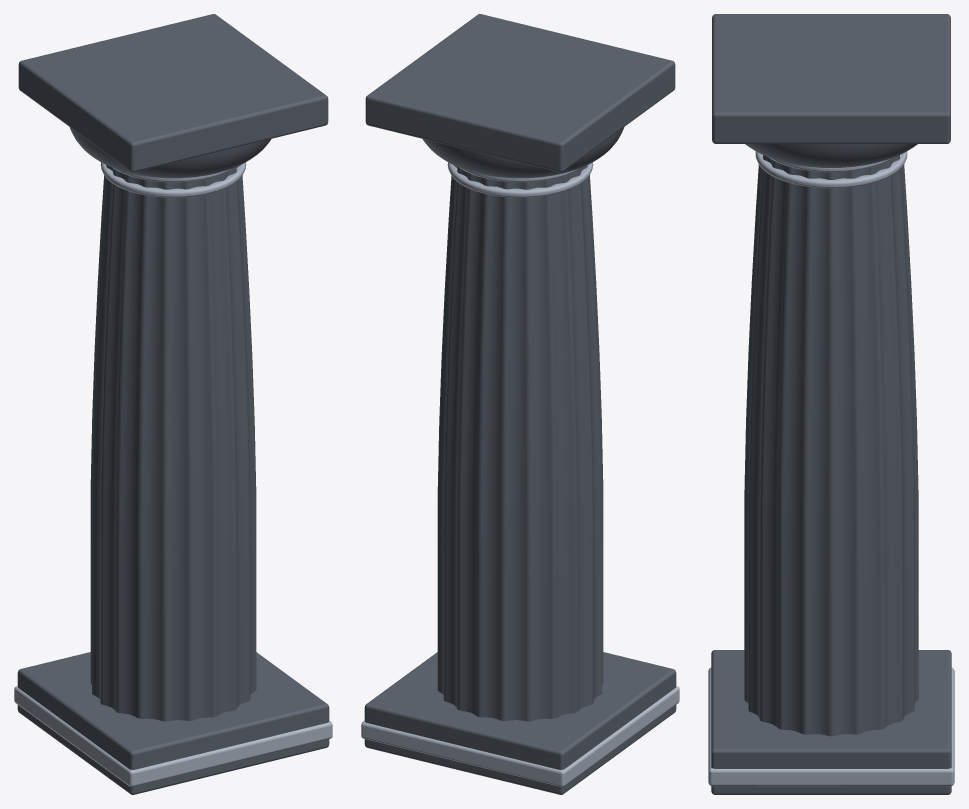
Rendered from column-doric.glb.
3 renders of one model, left to right at view 1: azimuth 30°, elevation 25°; view 2: azimuth 150°, elevation 25°; view 3: azimuth 270°, elevation 25°, orthographic. The views are drawn at different scales.
Visible parts, largest first — view 1: column-doric-shaft, column-doric-abacus, column-doric-plinth, column-doric-foot, column-doric-echinus, column-doric-annulets; view 2: column-doric-shaft, column-doric-abacus, column-doric-plinth, column-doric-foot, column-doric-echinus, column-doric-annulets; view 3: column-doric-shaft, column-doric-abacus, column-doric-plinth, column-doric-foot, column-doric-echinus, column-doric-annulets.
Boxes of the visible parts, box(x1,y1,x2,y2) form: column-doric-shaft: box(90, 165, 256, 721); column-doric-abacus: box(18, 14, 328, 172); column-doric-plinth: box(17, 652, 329, 794); column-doric-foot: box(14, 686, 332, 786); column-doric-echinus: box(69, 127, 271, 178); column-doric-annulets: box(100, 162, 246, 197); column-doric-shaft: box(437, 165, 603, 721); column-doric-abacus: box(365, 14, 675, 172); column-doric-plinth: box(364, 652, 676, 794); column-doric-foot: box(361, 686, 679, 786); column-doric-echinus: box(422, 127, 624, 178); column-doric-annulets: box(447, 162, 593, 197); column-doric-shaft: box(744, 155, 918, 736); column-doric-abacus: box(712, 14, 950, 143); column-doric-plinth: box(711, 650, 951, 794); column-doric-foot: box(708, 667, 954, 786); column-doric-echinus: box(745, 144, 917, 167); column-doric-annulets: box(755, 151, 907, 188).
Bounding box in the file's own units: 3.4 × 10.4 × 3.4.
